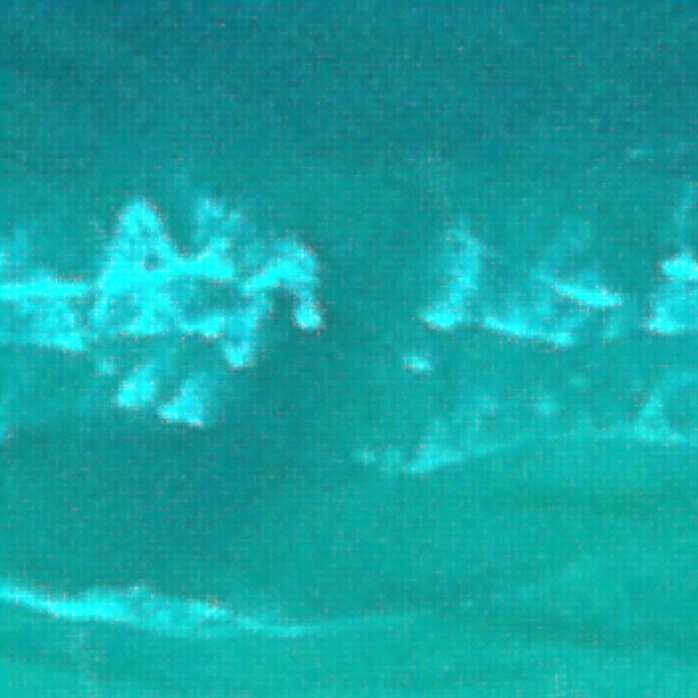rip_current: (194, 162, 480, 572)
